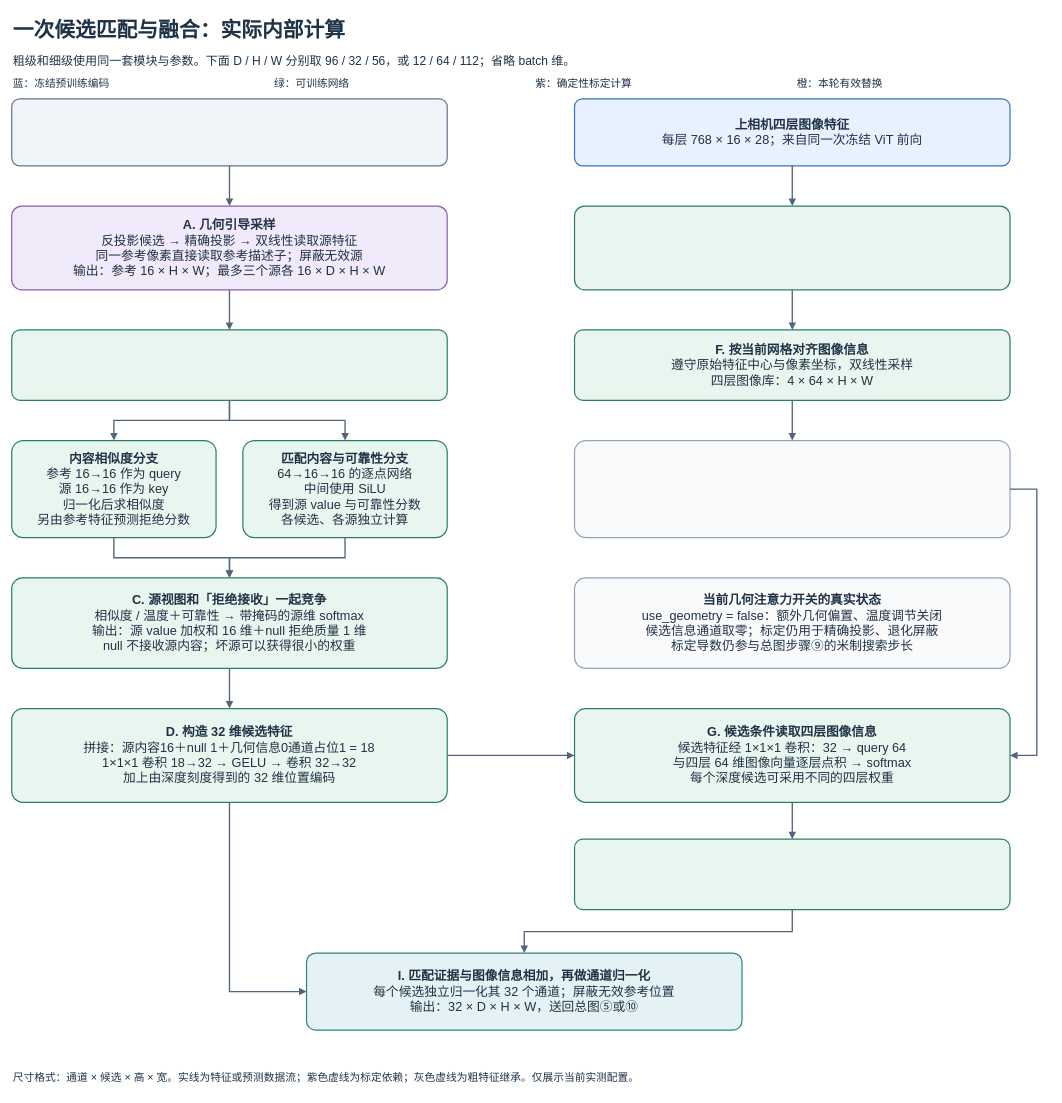
The diagram is 1062 pixels wide and 1103 high, and some of its shapes have lost their labels. Here are the shapes that lost their labels. From the top down, the centre of each, then its label:
the point at 229,132: 输入候选＋已知标定＋匹配特征库 候选深度 D × H × W；四目匹配描述子各 16 维
the point at 792,247: E. 每层保留独立的图像信息 四个互不共享的 1×1 适配器：768 → 64 输出：四层，各 64 × 16 × 28 同一次适配结果被粗级、细级复用
the point at 229,365: B. 逐源构造内容证据 参考特征、源特征、逐元素乘积、绝对差 四组 16 维拼接 → 每源 64 × D × H × W
the point at 792,489: 保留四层，不先求固定平均 每个位置存四个 64 维图像向量 候选内容将在后面决定读取哪一层 图像上下文不自动算作多目观测支持
the point at 792,874: H. 将所读图像信息返回候选 四层加权和：64 × D × H × W 1×1×1 卷积：64 → 32
